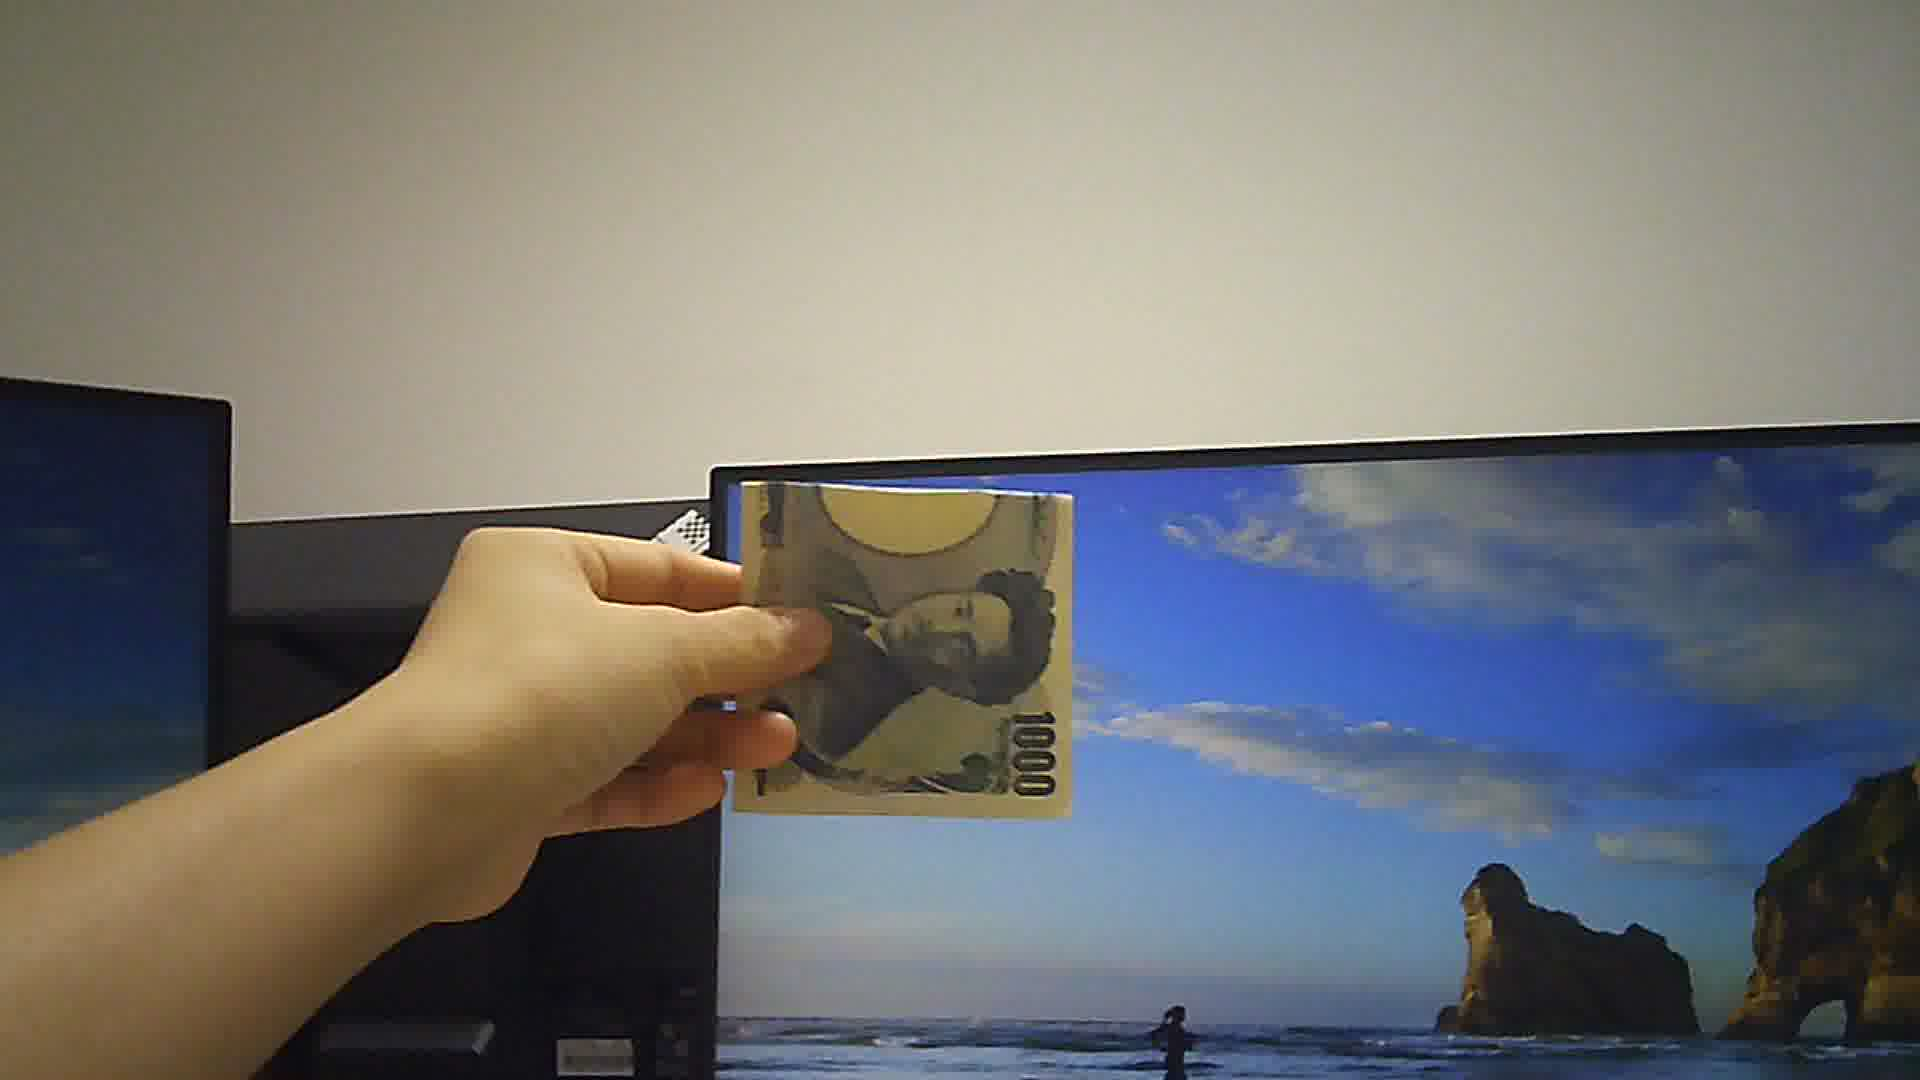1,000 Yen: (733, 460, 1077, 823)
